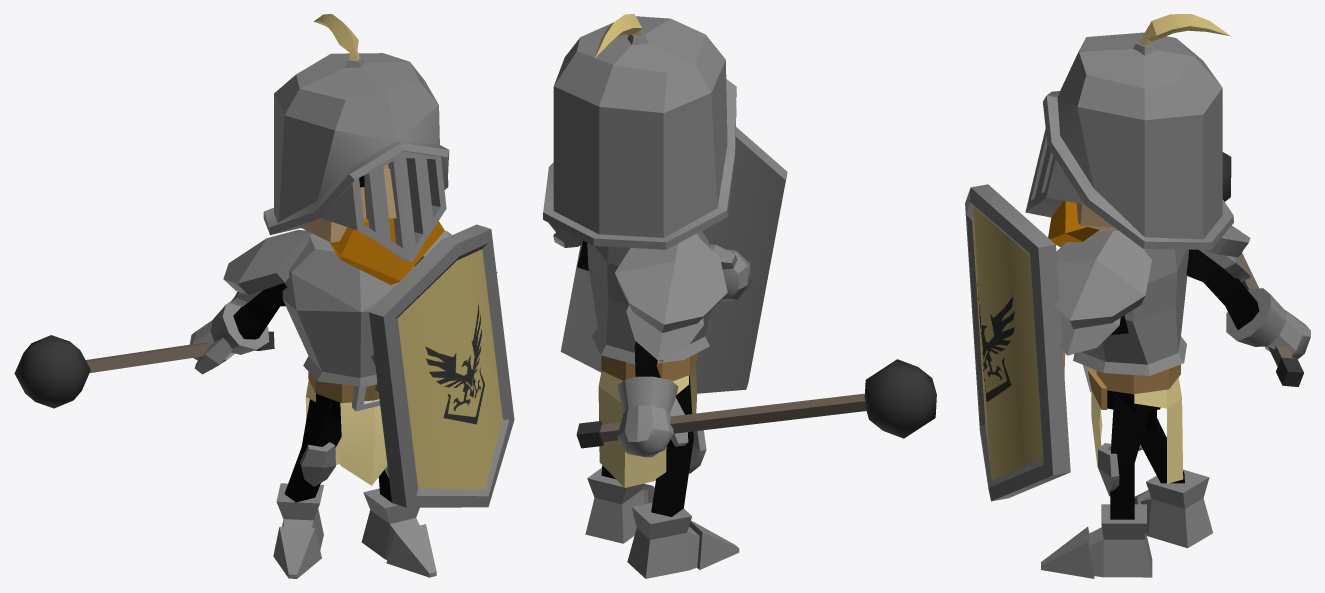
3 renders of one model, left to right at view 1: azimuth 30°, elevation 25°; view 2: azimuth 150°, elevation 25°; view 3: azimuth 270°, elevation 25°, orthographic. The views are drawn at different scales.
Parts seen in each view (by area): view 1: Soldier_85; view 2: Soldier_85; view 3: Soldier_85.
Part boxes in pixels (<box>): Soldier_85: <box>14,14,514,578</box>; Soldier_85: <box>543,14,936,578</box>; Soldier_85: <box>965,14,1310,578</box>.
Size of the model in its own units: 1.56 by 1.82 by 1.06.
10 materials, 1 textured.
